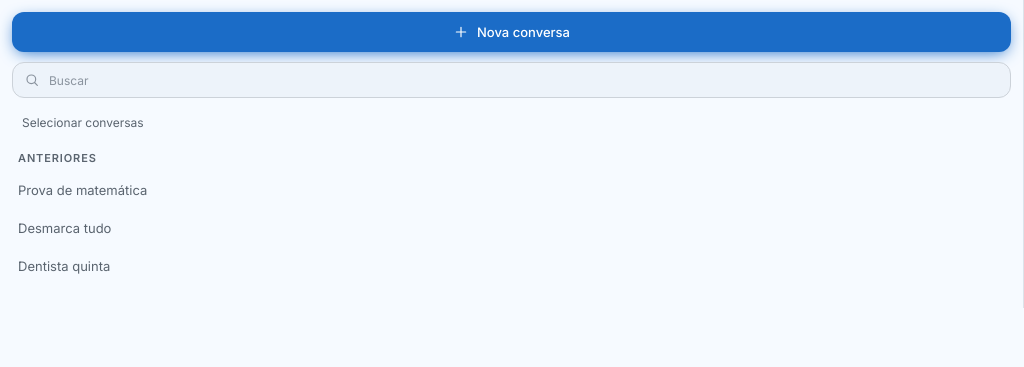
Test: modo de seleção › 'selecionar todas' marca tudo e o contador acompanha
Click the button "Selecionar conversas" at (83, 122), box [12, 108, 1011, 138]
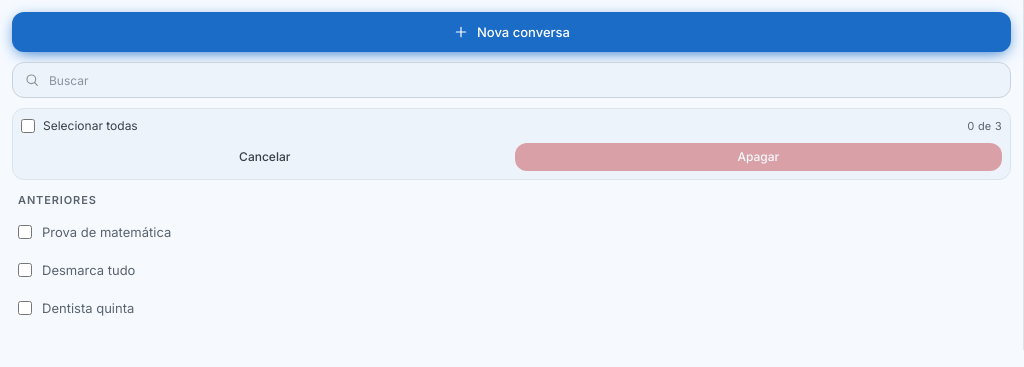
Result: the text "0 de 3" is shown at [967, 118, 1002, 134]
Click the checkbox labelled "Selecionar todas" at (28, 126), box [21, 119, 35, 133]
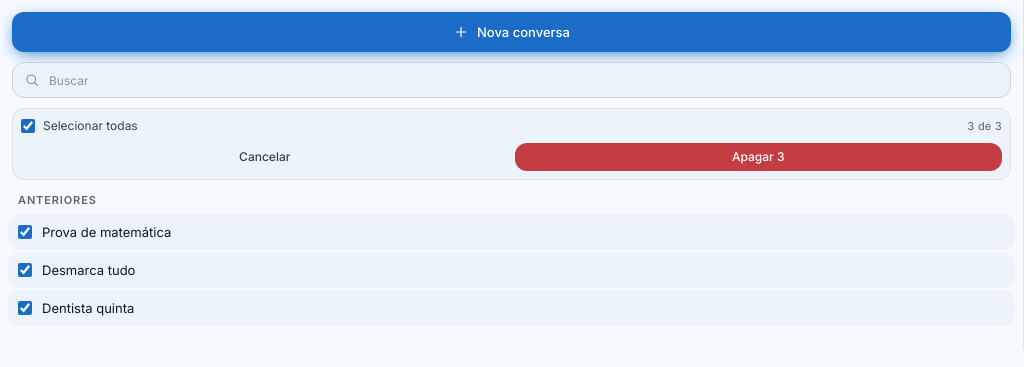
Result: the text "3 de 3" is shown at [967, 118, 1002, 134]
